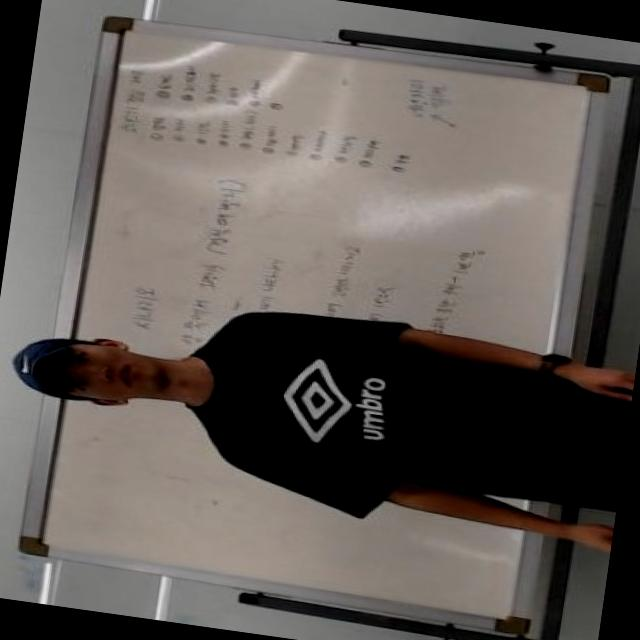Instructor: (2, 302, 614, 524)
White-board: (28, 21, 602, 630)
